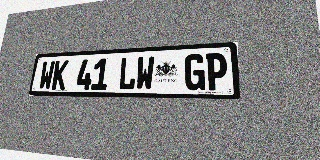1: (91, 58, 109, 90)
4: (76, 59, 94, 90)
G: (184, 54, 205, 90)
K: (51, 60, 69, 90)
L: (118, 57, 137, 90)
P: (206, 53, 228, 90)
W: (135, 56, 155, 90), (38, 61, 55, 90)
